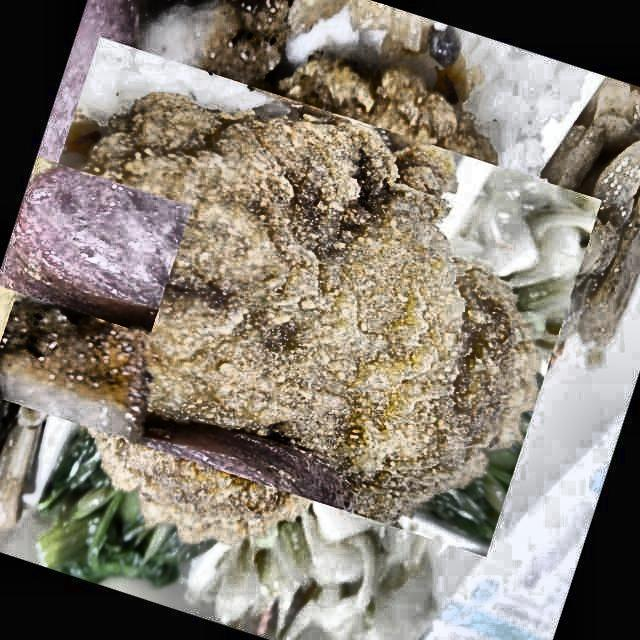Food: (8, 12, 577, 582), (0, 143, 182, 345)
